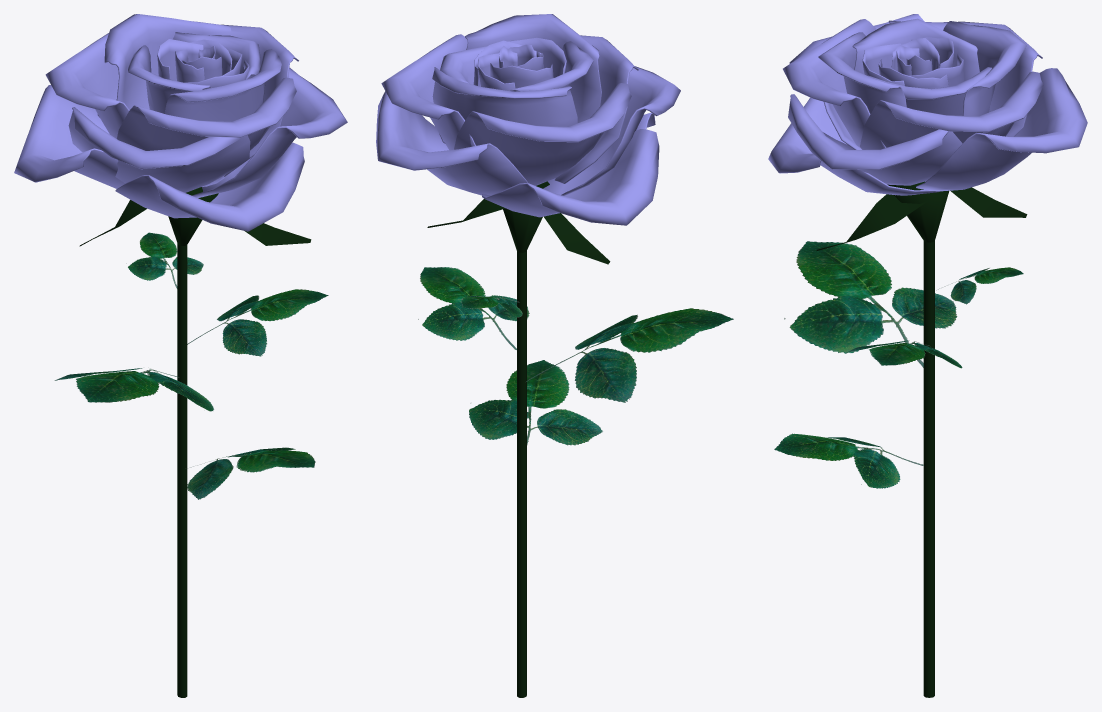
The model's file is rose.FBX.
3 views of the same model, side by side, from view 1: azimuth 30°, elevation 25°; view 2: azimuth 150°, elevation 25°; view 3: azimuth 270°, elevation 25° (orthographic). The views are drawn at different scales.
Parts seen in each view (by area): view 1: rose_LOD0; view 2: rose_LOD0; view 3: rose_LOD0.
Part boxes in pixels (x1,y1,x2,y2): rose_LOD0: (14,14,347,697); rose_LOD0: (376,14,733,697); rose_LOD0: (768,14,1087,697).
Size of what is drawn, in the model's own units: 1.94 by 4.25 by 1.88.
